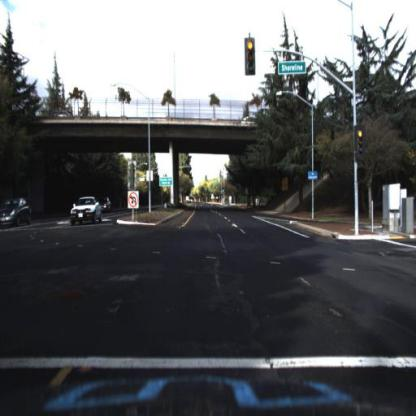car: (68, 193, 106, 226), (1, 200, 33, 228)
trafficLight: (354, 125, 366, 157)
trafficLight-Red: (244, 38, 259, 77)
